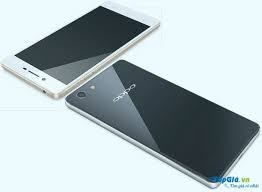oppo: (62, 60, 259, 190)
